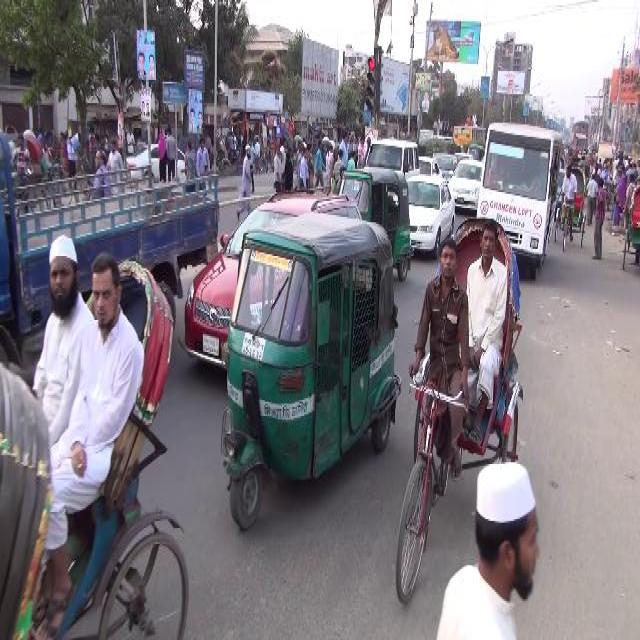car: (175, 256, 232, 366), (408, 174, 454, 254), (446, 150, 482, 220)
minibus: (474, 117, 560, 281)
pickup: (0, 147, 223, 276)
rickshaw: (393, 212, 525, 616), (21, 126, 71, 208), (554, 156, 586, 260), (620, 176, 640, 279), (290, 130, 302, 172)
three wheelers -CNG-: (216, 207, 402, 536), (336, 169, 414, 283)
